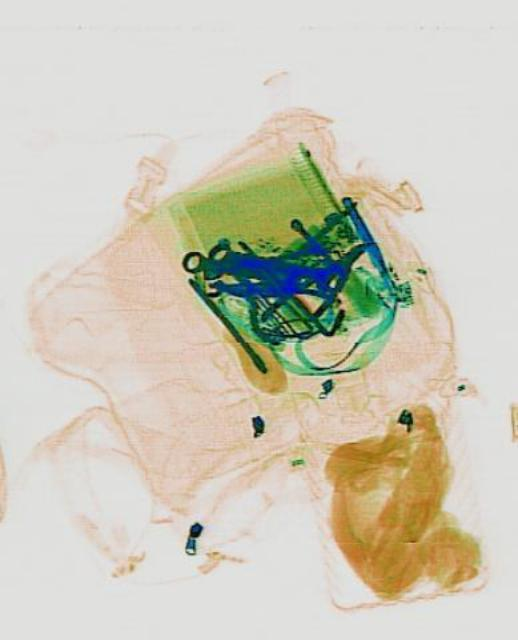Wrench: (178, 240, 346, 294)
